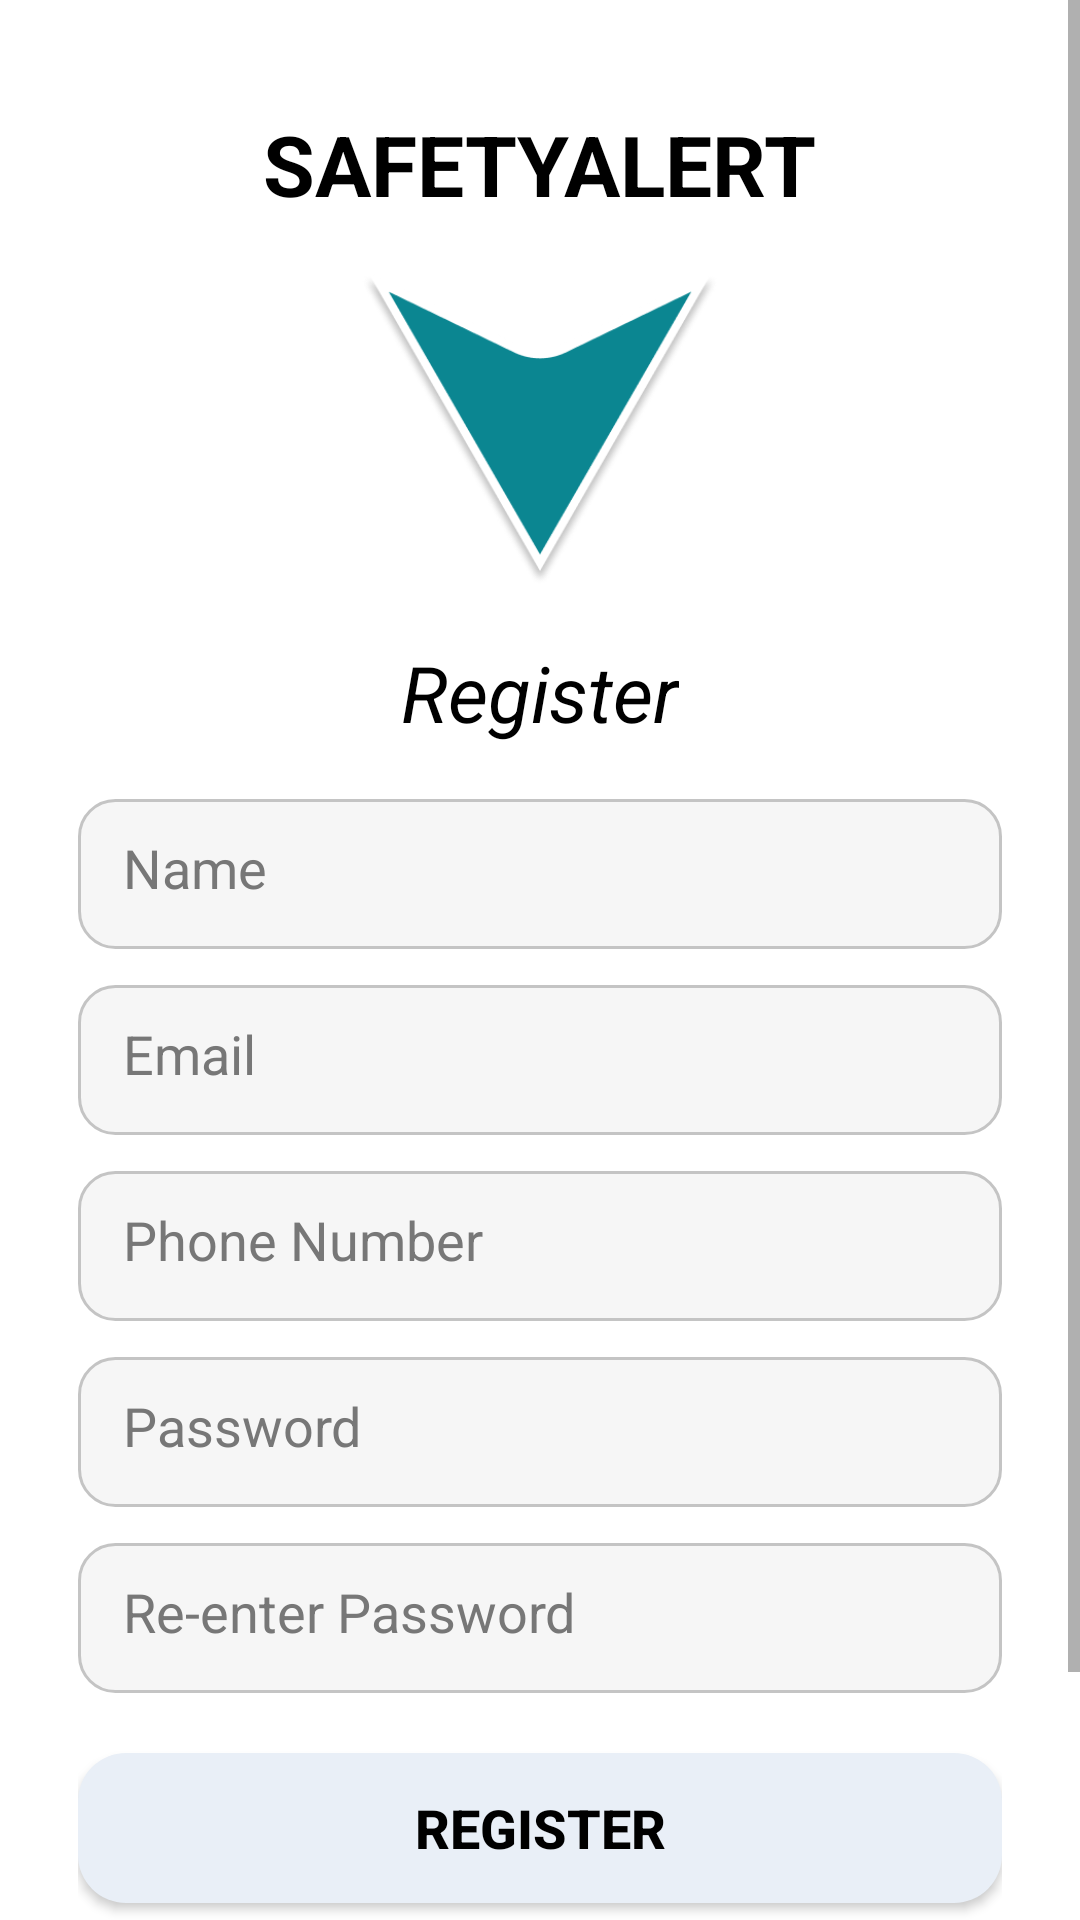

Icons on this 1080x1920 Android screen, each with its box as (x1, y1, x2, y2):
polygon: (372, 284, 708, 576)
